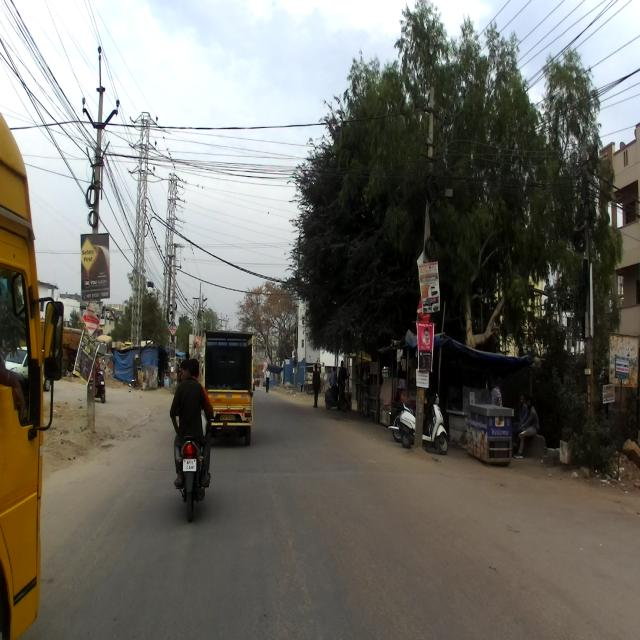electric pole ahead at: (63, 36, 126, 452)
motorcycle ahead at: (167, 424, 214, 516)
